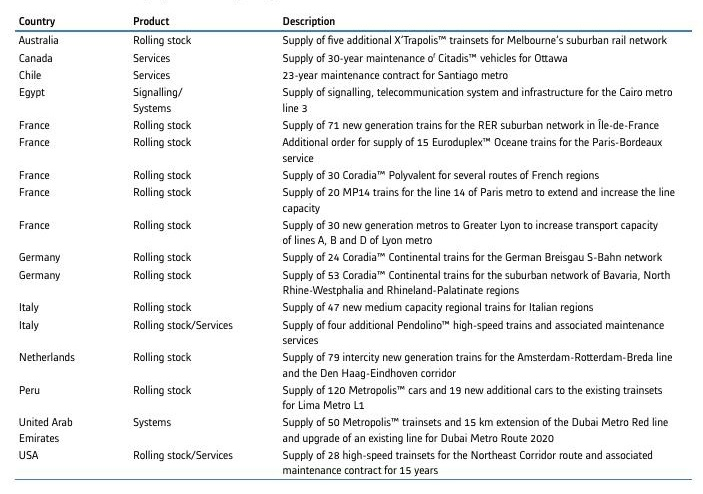table: (0, 0, 703, 494)
